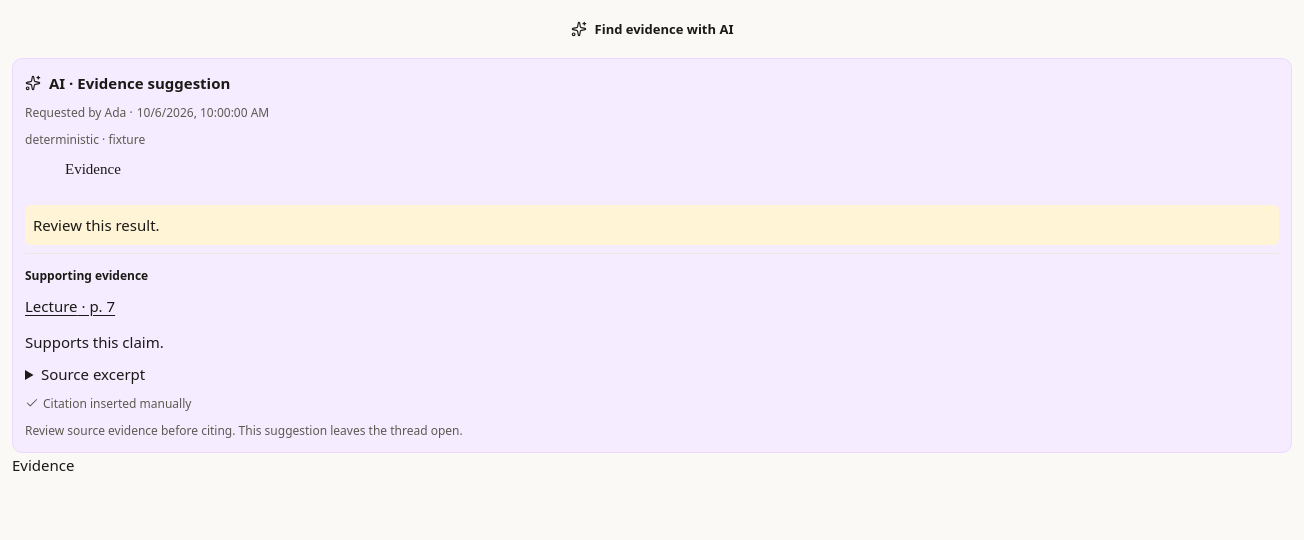
Test case: shows the durable manual acceptance receipt and keeps generation busy state accessible
The image size is (1304, 540).
Expected: the text "Citation inserted manually" is shown, [25, 395, 191, 412]
Click the button "Find evidence with AI": (652,29) [12, 12, 1292, 46]
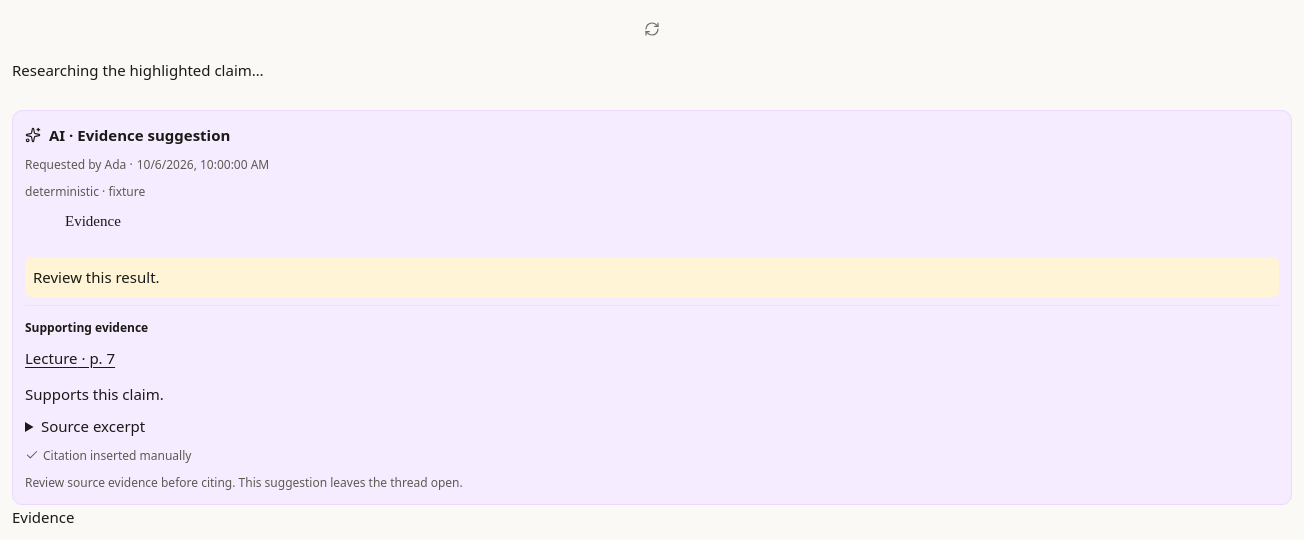
Expected: the message "Researching the highlighted claim…" is shown, [12, 60, 264, 80]
Expected: the button named "Find evidence with AI" is disabled, [12, 12, 1292, 46]
